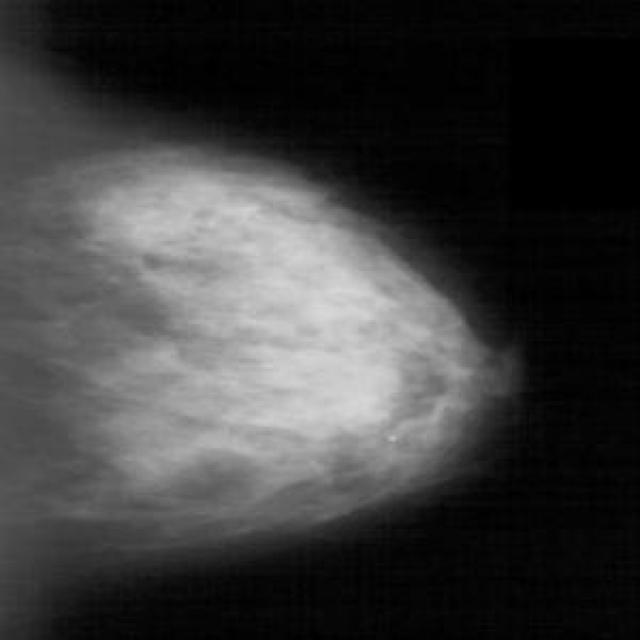tumor: (149, 318, 446, 457)
